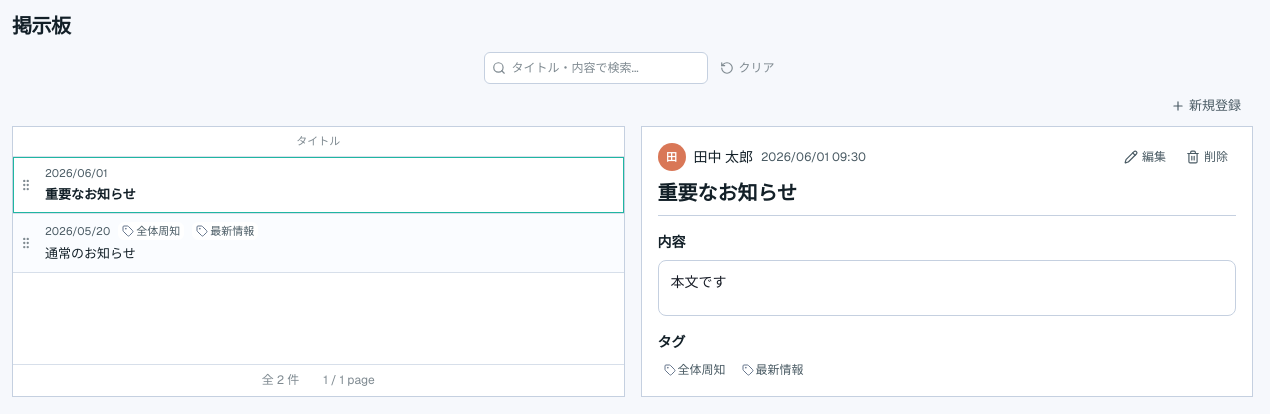
Test: DashboardView › 検索キーワード指定時、一覧行タイトルの一致箇所を sp-search-hl でハイライトする（hom-0110）
Step 1. Type "通常" into the search field with placeholder "タイトル・内容で検索..." → (596, 68), box [484,52,708,84]
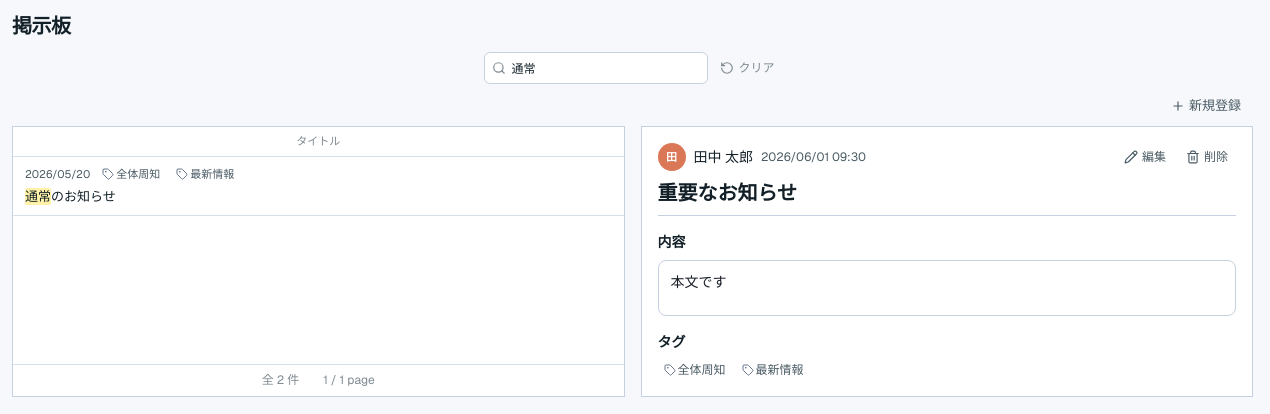
Check: the text "通常" is shown once, box [25,188,51,205]
